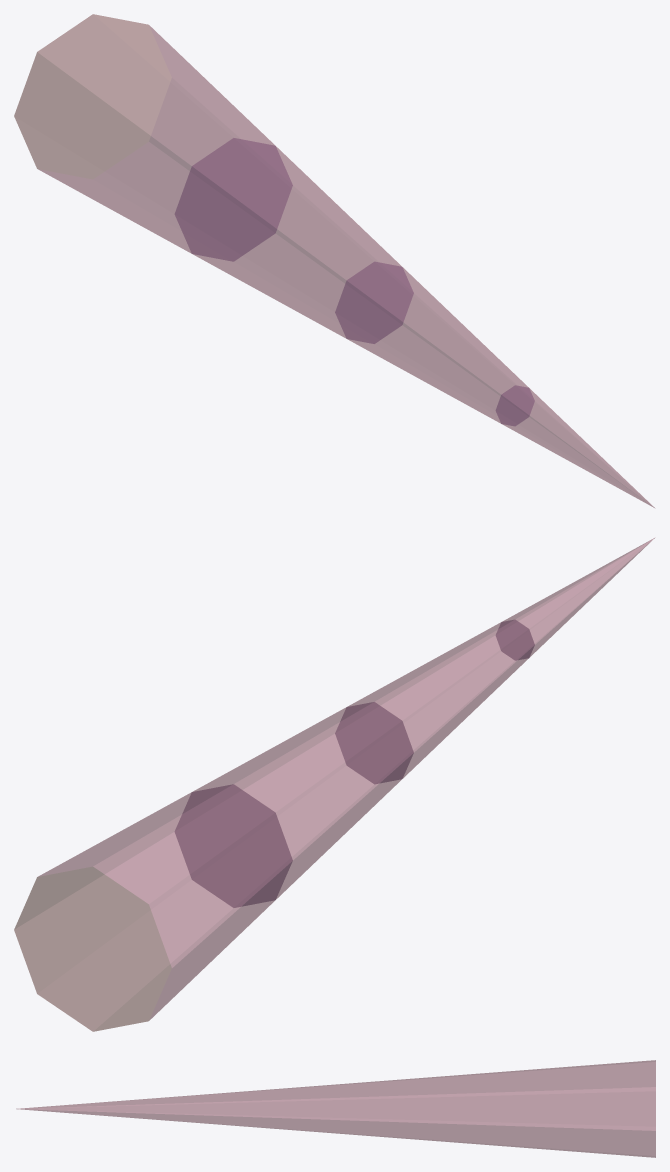
The model's file is Bunner_F20ANG.obj.
The picture shows the model from 3 angles, top to bottom: view 1: azimuth 30°, elevation 25°; view 2: azimuth 150°, elevation 25°; view 3: azimuth 270°, elevation 25°; orthographic projection. The views are drawn at different scales.
Parts seen in each view (by area): view 1: ShapeIndexedFaceSet.085_ShapeIndexedFaceSet.086, ShapeIndexedFaceSet.083_ShapeIndexedFaceSet.084, ShapeIndexedFaceSet.084_ShapeIndexedFaceSet.085; view 2: ShapeIndexedFaceSet.085_ShapeIndexedFaceSet.086, ShapeIndexedFaceSet.083_ShapeIndexedFaceSet.084, ShapeIndexedFaceSet.084_ShapeIndexedFaceSet.085; view 3: ShapeIndexedFaceSet.085_ShapeIndexedFaceSet.086.
Part boxes in pixels (<box>): ShapeIndexedFaceSet.085_ShapeIndexedFaceSet.086: <box>14,14,654,507</box>; ShapeIndexedFaceSet.083_ShapeIndexedFaceSet.084: <box>14,14,171,178</box>; ShapeIndexedFaceSet.084_ShapeIndexedFaceSet.085: <box>175,138,534,425</box>; ShapeIndexedFaceSet.085_ShapeIndexedFaceSet.086: <box>14,538,654,1031</box>; ShapeIndexedFaceSet.083_ShapeIndexedFaceSet.084: <box>14,867,171,1031</box>; ShapeIndexedFaceSet.084_ShapeIndexedFaceSet.085: <box>175,620,534,907</box>; ShapeIndexedFaceSet.085_ShapeIndexedFaceSet.086: <box>16,1060,655,1157</box>.
Bounding box in the file's own units: 10.2 × 10.2 × 62.91.
